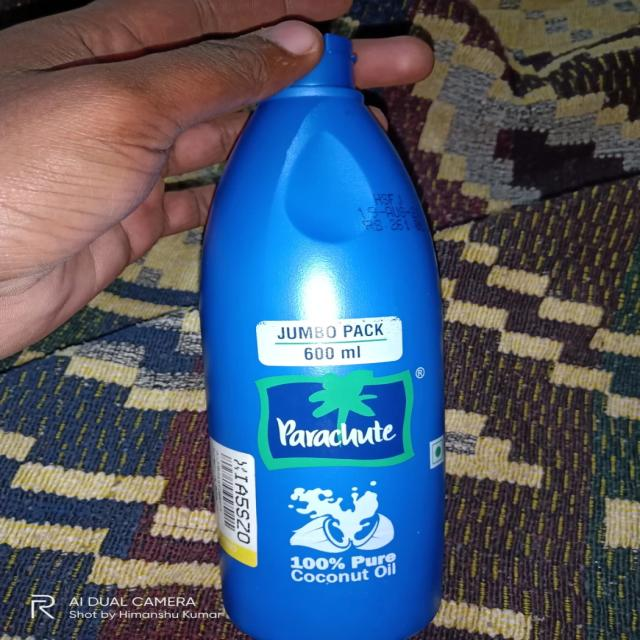parachute_oil: (193, 35, 449, 640)
